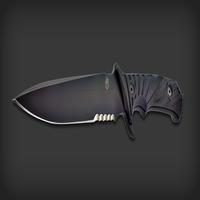knife: (7, 67, 191, 140)
